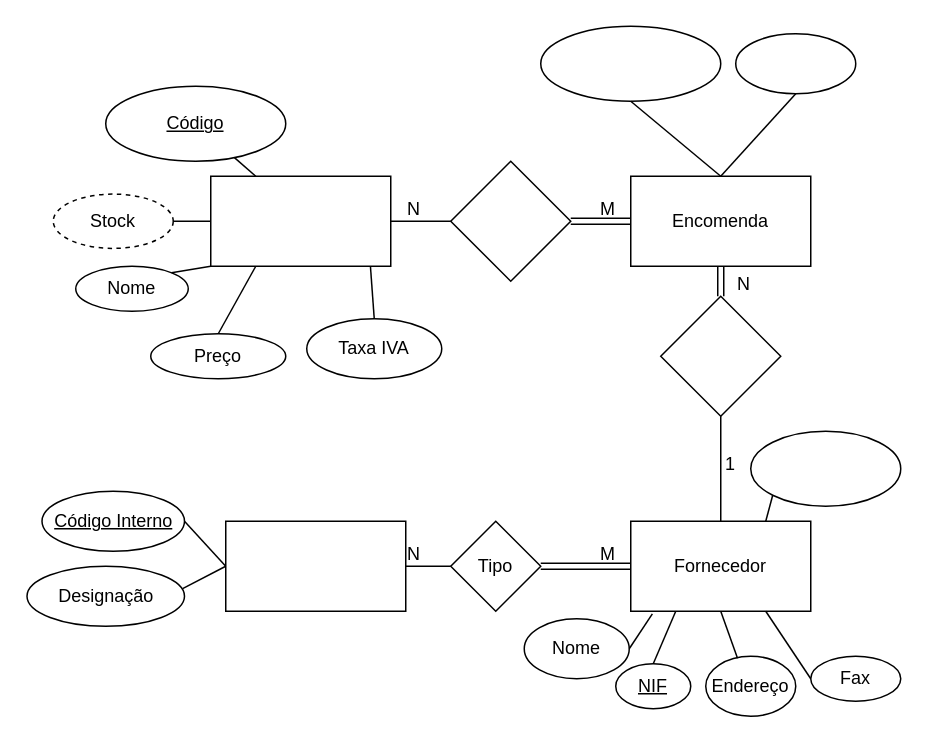
Image size: 927x743. Some labels were removed from this diagram. Each missing label, with the centre of its shape:
condições de pagamento: pixel 825 468
Contém: pixel 510 220
Data: pixel 795 63
Nº Encomenda: pixel 630 63
Produtos: pixel 300 220
Tem: pixel 720 355
Tipo Fornecedor: pixel 315 565
